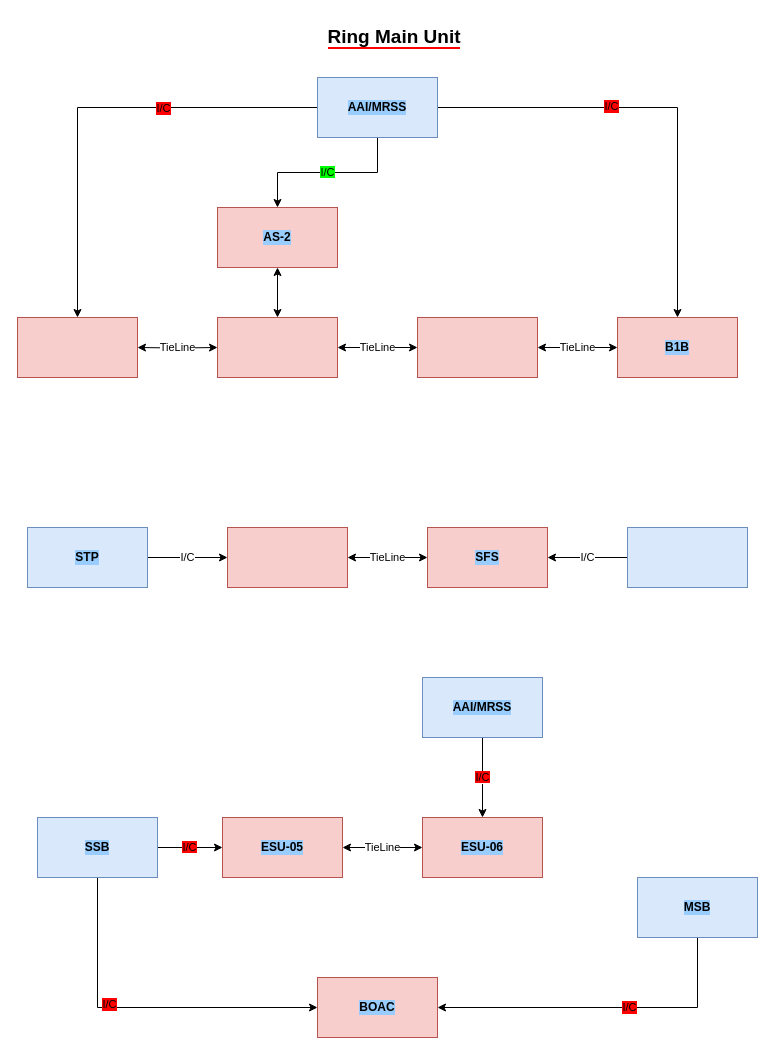
Image size: 775x1055. Some labels were removed from this diagram. The centre of each missing label's shape, as x and y in pixels:
AAIGSD: point 687,557
B1A: point 77,347
B1C: point 477,347
B1D: point 277,347
E-block: point 287,557
